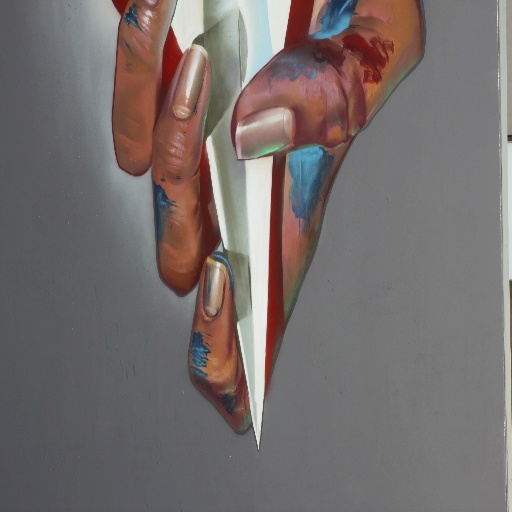hand: (109, 0, 426, 434)
